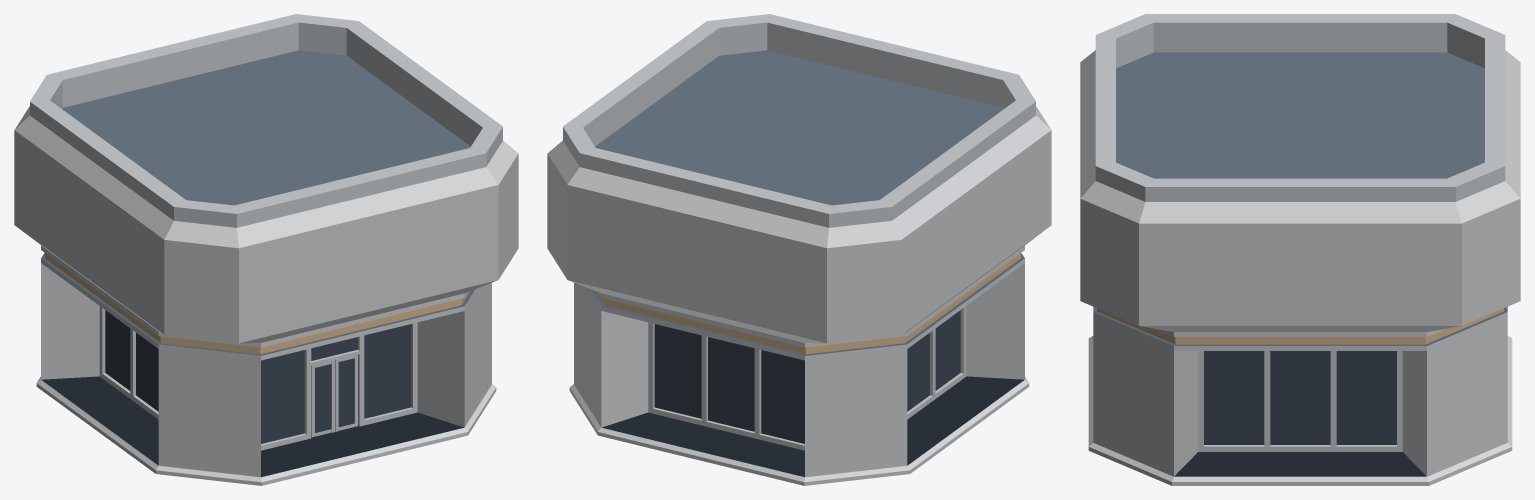
Rendered from retail-podium-arcade-f76ee5.glb.
3 views of the same model, side by side, from view 1: azimuth 30°, elevation 25°; view 2: azimuth 150°, elevation 25°; view 3: azimuth 270°, elevation 25° (orthographic). The views are drawn at different scales.
Visible parts, largest first — view 1: podium-shell, glazing, door-l-glass, door-r-glass, door-l-panel, door-r-panel; view 2: podium-shell, glazing; view 3: podium-shell, glazing.
Boxes of the visible parts, bbox=[...] form: podium-shell: bbox=[14, 14, 518, 485]; glazing: bbox=[105, 310, 411, 443]; door-l-glass: bbox=[315, 364, 331, 432]; door-r-glass: bbox=[338, 358, 354, 427]; door-l-panel: bbox=[311, 360, 334, 437]; door-r-panel: bbox=[335, 354, 357, 431]; podium-shell: bbox=[547, 14, 1051, 485]; glazing: bbox=[654, 310, 960, 443]; podium-shell: bbox=[1080, 14, 1520, 485]; glazing: bbox=[1204, 351, 1396, 444].
Bounding box in the file's own units: 12 × 8.9 × 12.
